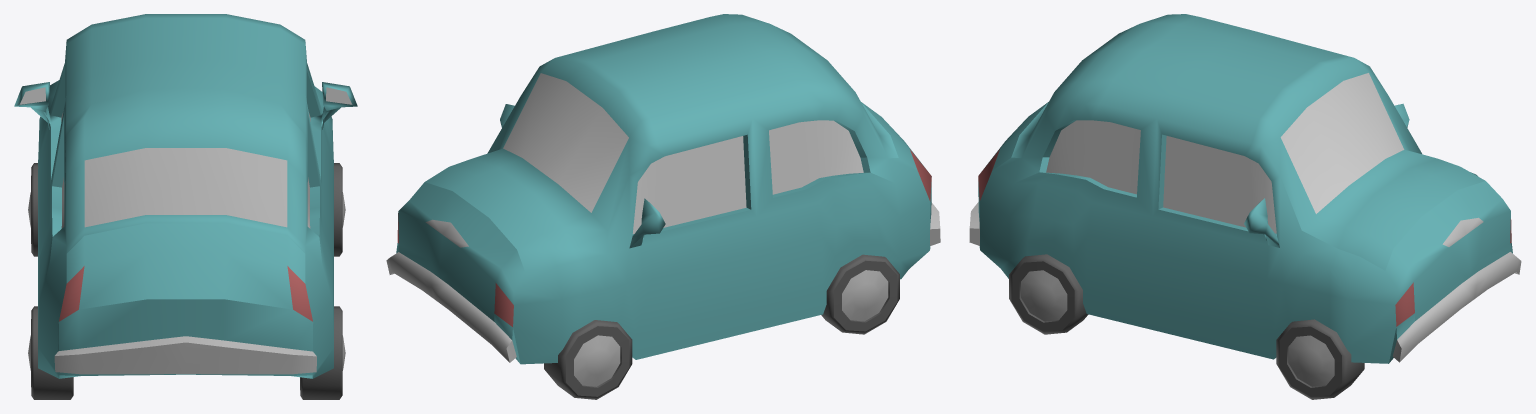
File: ToyCarV2.fbx
The picture shows the model from 3 angles, left to right: view 1: azimuth 30°, elevation 25°; view 2: azimuth 150°, elevation 25°; view 3: azimuth 270°, elevation 25°; orthographic projection. The views are drawn at different scales.
Parts seen in each view (by area): view 1: car_body01, car_botR_wheel01, car_botL_wheel01, car_topR_wheel01, car_topL_wheel01; view 2: car_body01, car_topL_wheel01, car_botL_wheel01; view 3: car_body01, car_topR_wheel01, car_botR_wheel01.
Boxes of the visible parts, <box> form: car_body01: <box>14,14,357,378</box>; car_botR_wheel01: <box>300,306,345,399</box>; car_botL_wheel01: <box>28,306,73,399</box>; car_topR_wheel01: <box>333,163,345,256</box>; car_topL_wheel01: <box>28,163,38,256</box>; car_body01: <box>386,14,940,364</box>; car_topL_wheel01: <box>544,320,632,399</box>; car_botL_wheel01: <box>821,254,899,334</box>; car_body01: <box>969,14,1521,363</box>; car_topR_wheel01: <box>1276,319,1364,399</box>; car_botR_wheel01: <box>1009,254,1088,334</box>.
Bounding box in the file's own units: 1 × 0.6183 × 1.2.
